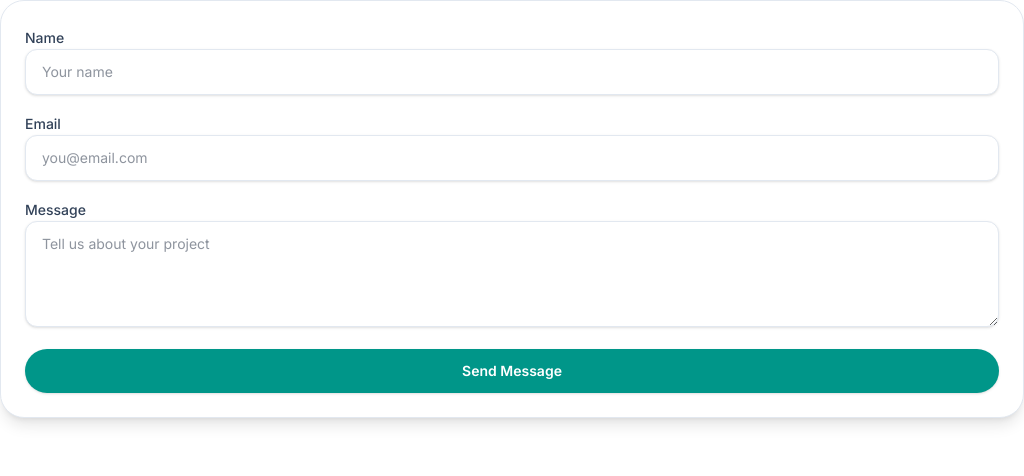
Test case: ContactForm › submits form successfully with valid data
Type "John Doe" into the field labelled "Name" at (512, 72), box x1=25 y1=49 x2=999 y2=95
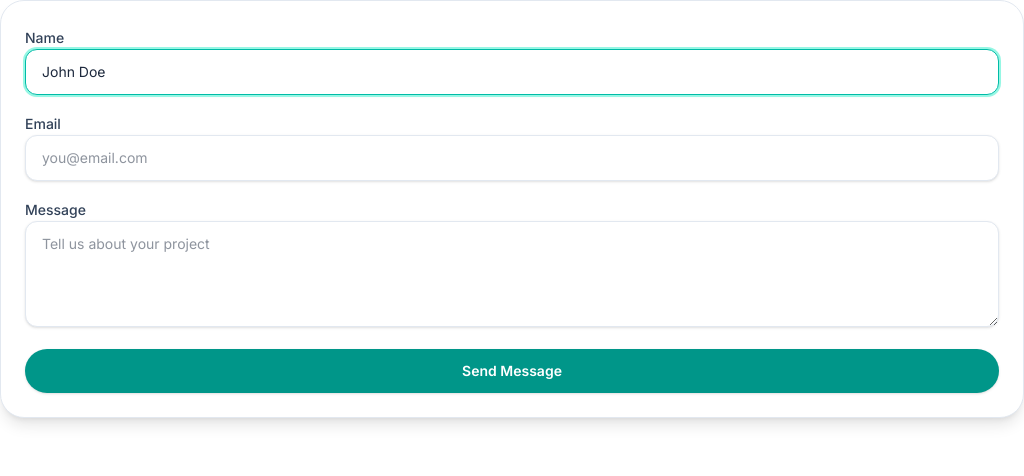
Type "john@example.com" into the field labelled "Email" at (512, 158), box x1=25 y1=135 x2=999 y2=181
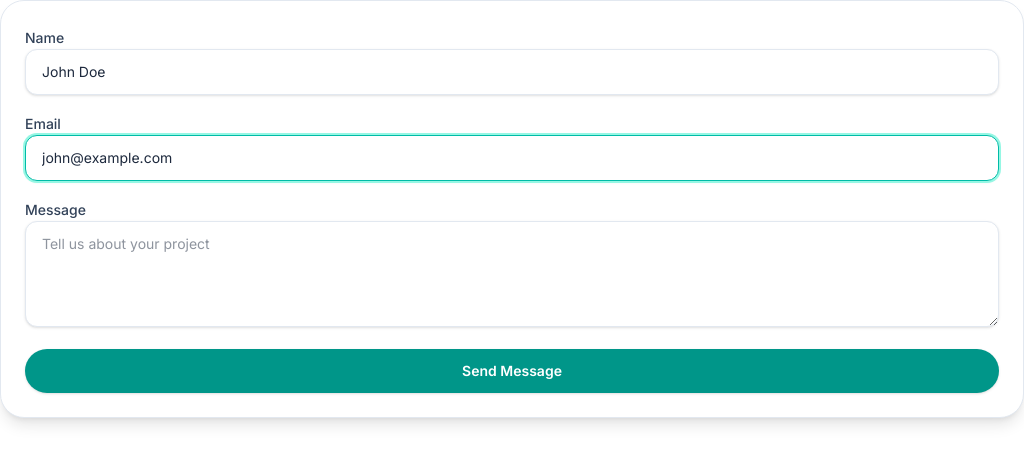
Type "This is a test message for the form" into the text box labelled "Message" at (512, 274), box x1=25 y1=221 x2=999 y2=327
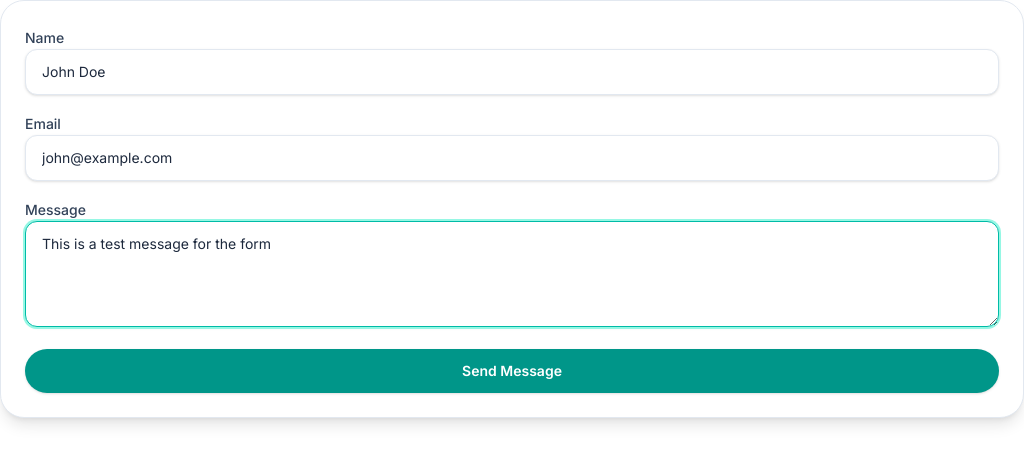
Click the button "Send Message" at (512, 371), box x1=25 y1=349 x2=999 y2=393
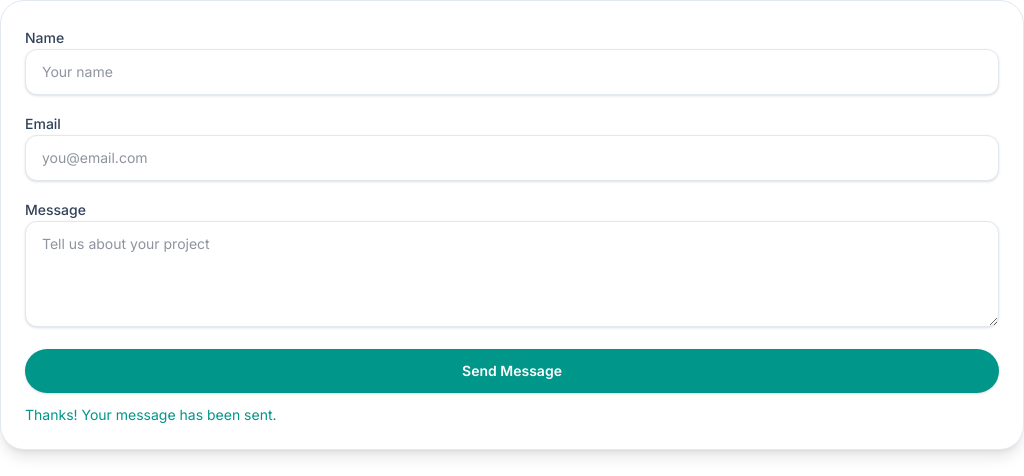
Result: the text "Thanks! Your message has been sent." is shown at x1=25 y1=406 x2=277 y2=423
